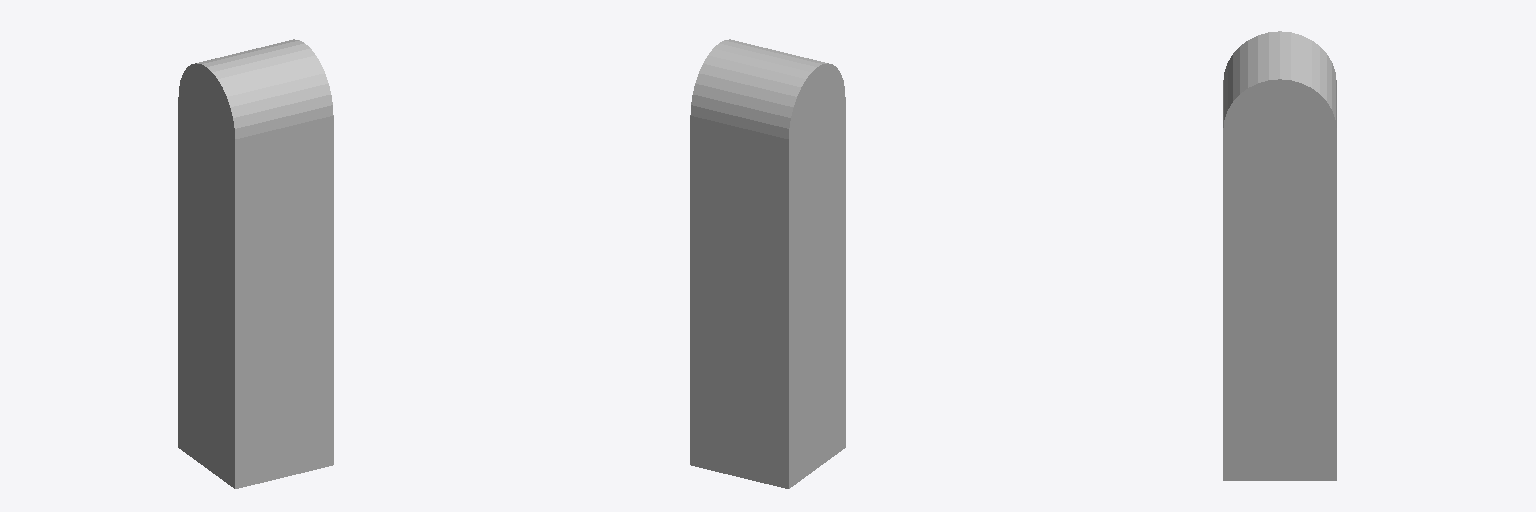
File: body_r_dist_pinvround_collision.obj
3 views of the same model, side by side, from view 1: azimuth 30°, elevation 25°; view 2: azimuth 150°, elevation 25°; view 3: azimuth 270°, elevation 25° (orthographic).
Parts seen in each view (by area): view 1: body_r_dist_pinvround_collision_Cube.685; view 2: body_r_dist_pinvround_collision_Cube.685; view 3: body_r_dist_pinvround_collision_Cube.685.
Boxes of the visible parts, x1,y1,x2,y2 form: body_r_dist_pinvround_collision_Cube.685: [178, 39, 333, 488]; body_r_dist_pinvround_collision_Cube.685: [690, 39, 845, 488]; body_r_dist_pinvround_collision_Cube.685: [1223, 31, 1336, 480].
Size of the model in its own units: 0.02 by 0.078 by 0.02.